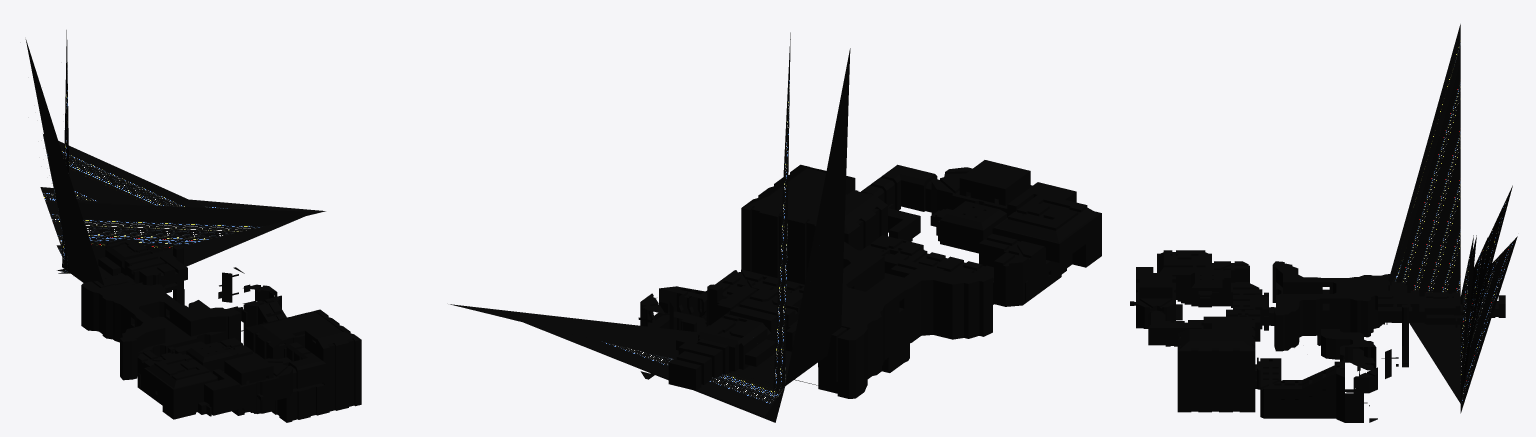
Rendered from quakemap_compiled.obj.
3 renders of one model, left to right at view 1: azimuth 30°, elevation 25°; view 2: azimuth 150°, elevation 25°; view 3: azimuth 270°, elevation 25°, orthographic. The views are drawn at different scales.
Size of the model in its own units: 26670 by 25527 by 28812.
